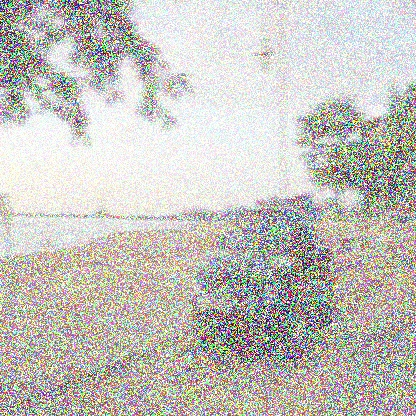Vehicle: (191, 206, 336, 362)
